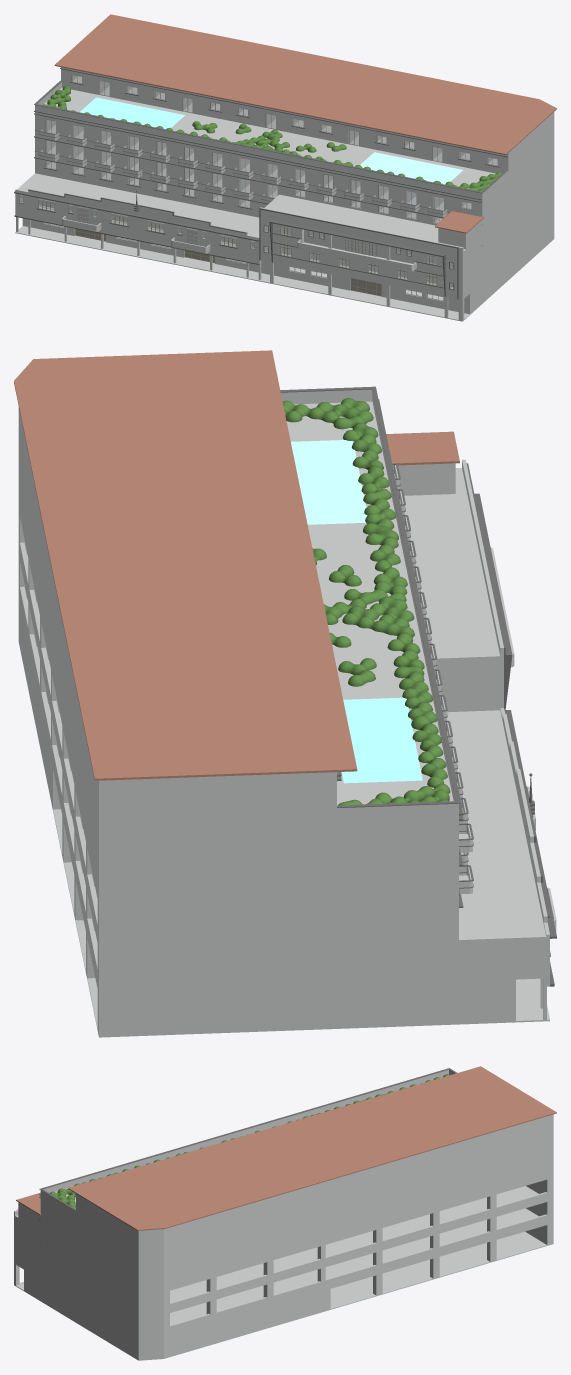
3 renders of one model, top to bottom at view 1: azimuth 30°, elevation 25°; view 2: azimuth 150°, elevation 25°; view 3: azimuth 270°, elevation 25°, orthographic. The views are drawn at different scales.
Parts seen in each view (by area): view 1: Object.049, Object.163, Object.164, Object.165, Object.274, Object.170, Object.168, Object.175, Mball.130, Object.186, Object.208, Object.295 (+23 smaller); view 2: Object.049, Object.164, Mball.130, Object.163, Object.186, Object.175, Plane, Plane.001, Object.185, Object.168, Object.165, Object.181 (+7 smaller); view 3: Object.163, Object.049, Object.164, Object.165, Object.168, Object.182, Object.167, Mball.130, Object.174.
Part boxes in pixels (x1,y1,x2,y2): Object.049: (54, 14, 556, 154); Object.163: (279, 112, 554, 302); Object.164: (35, 67, 304, 217); Object.165: (15, 222, 553, 321); Object.274: (15, 193, 260, 263); Object.170: (260, 239, 463, 299); Object.168: (35, 82, 508, 198); Object.175: (265, 194, 482, 252); Mball.130: (43, 85, 501, 191); Object.186: (17, 177, 259, 236); Object.208: (260, 207, 463, 258); Object.295: (15, 188, 259, 238); Object.049: (14, 350, 357, 780); Object.164: (53, 576, 458, 1036); Mball.130: (282, 398, 450, 805); Object.163: (18, 401, 410, 809); Object.186: (447, 710, 546, 942); Object.175: (404, 468, 500, 661); Plane: (341, 697, 422, 783); Plane.001: (291, 440, 367, 524); Object.185: (478, 940, 546, 1022); Object.168: (281, 389, 458, 819); Object.165: (18, 641, 549, 1037); Object.181: (436, 659, 500, 712); Object.163: (40, 1180, 330, 1359); Object.049: (68, 1066, 556, 1230); Object.164: (309, 1114, 553, 1295); Object.165: (14, 1231, 553, 1360); Object.168: (40, 1069, 454, 1216); Object.182: (15, 1218, 40, 1300); Object.167: (39, 1068, 456, 1210); Mball.130: (49, 1074, 449, 1208); Object.174: (18, 1202, 40, 1230).
Size of the model in its own units: 1.45 by 0.4507 by 1.68.
